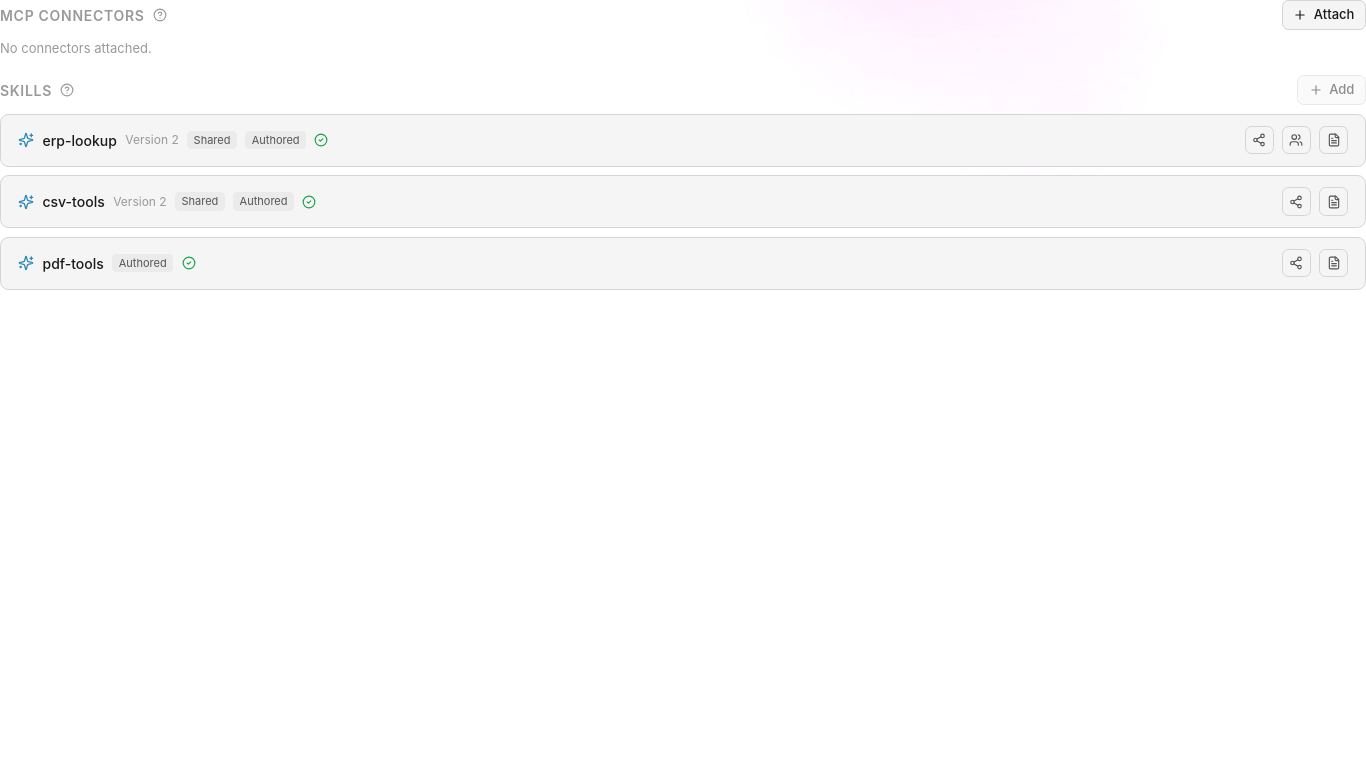
Test: the Skills section — a catalog skill’s actions › offers Who can use on an own shared skill only to a maintainer of its package, and opens its People
Expected: the text "No connectors attached." is shown, [0, 40, 152, 56]
Click the button named "Who can use erp-lookup…".
click(1296, 140)  # box [1282, 126, 1311, 154]
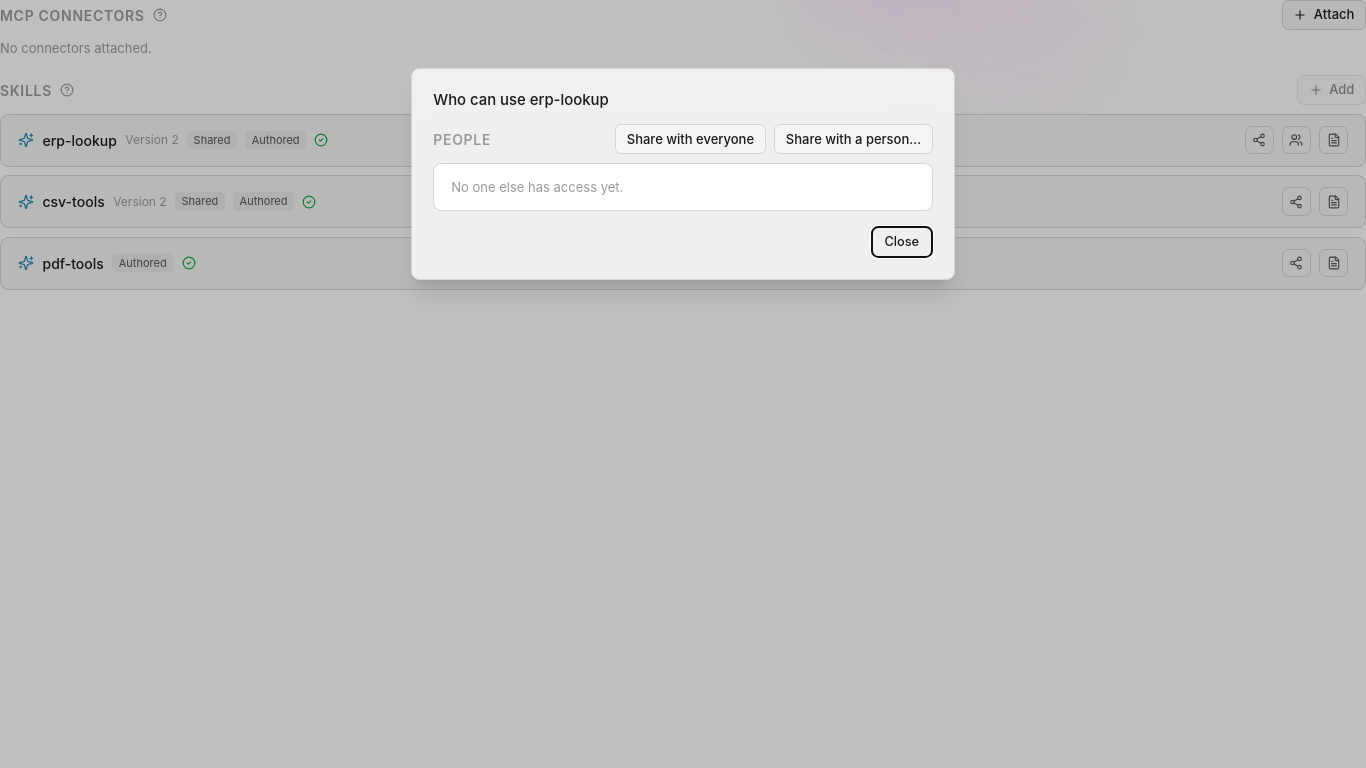
Expected: the text "No one else has access yet." is shown, [451, 178, 623, 194]
Click the button "Close".
click(902, 242)  # box [871, 226, 933, 258]
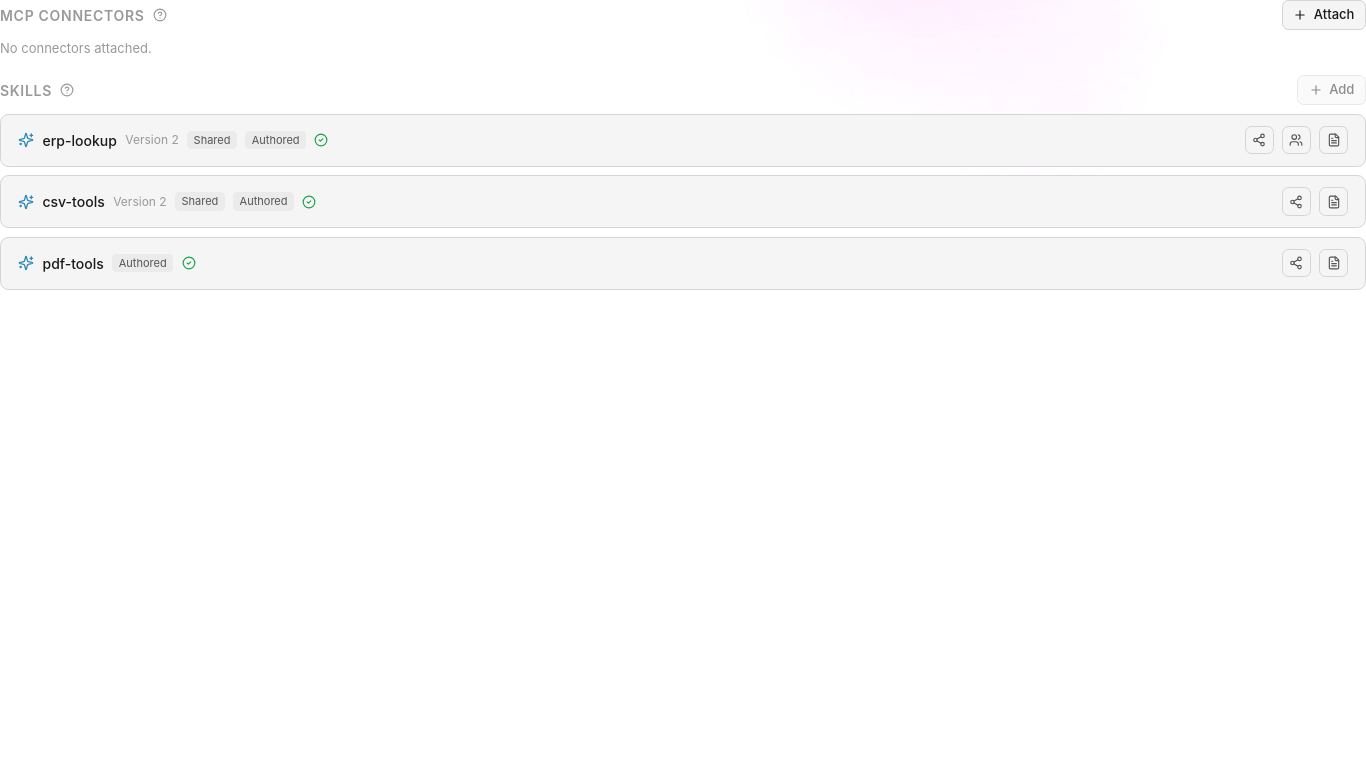
Expected: the dialog is gone
